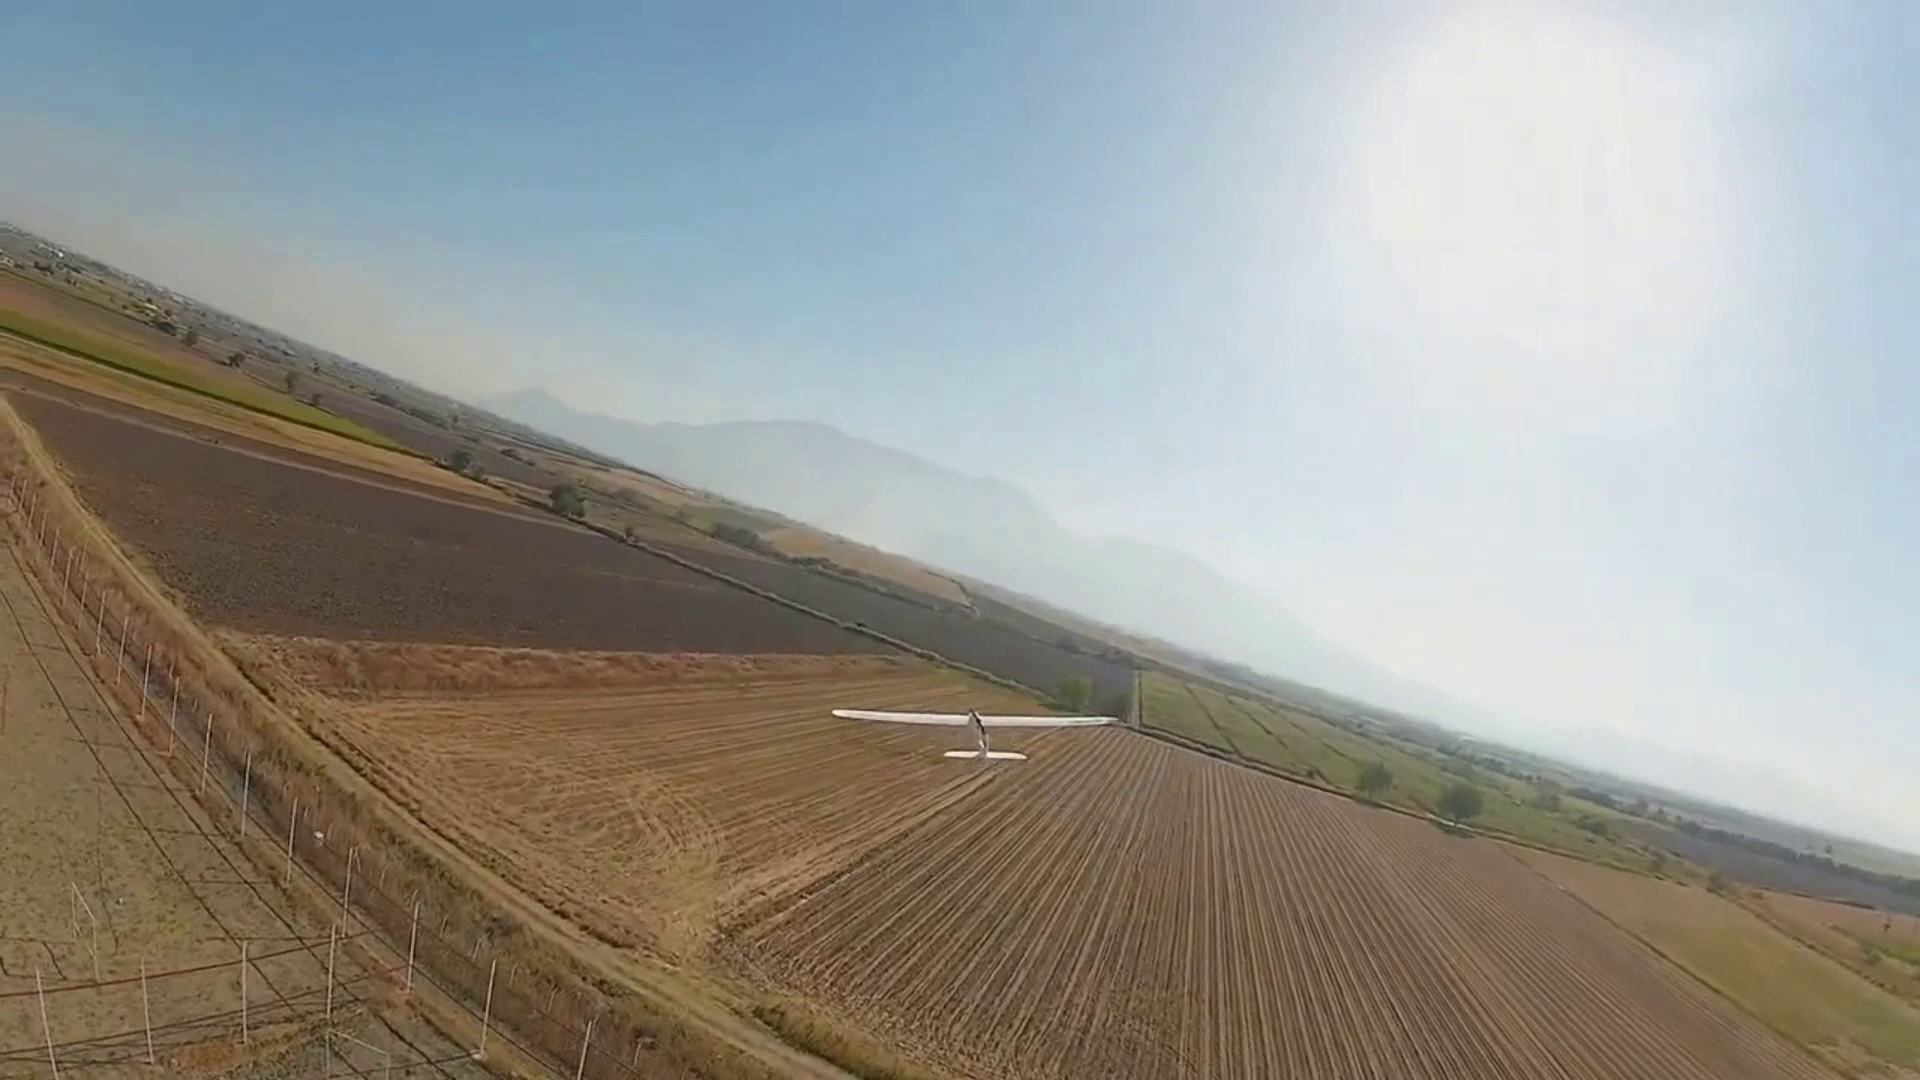airplane: (3, 222, 1913, 887)
